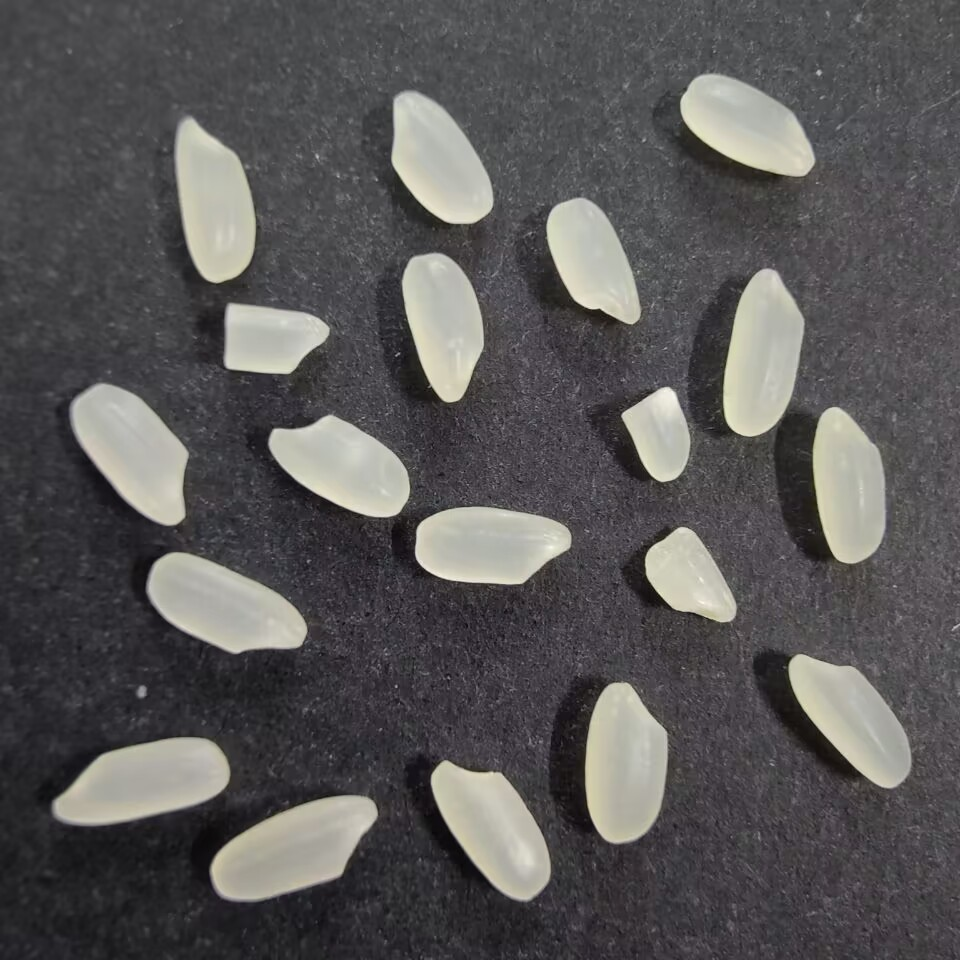broken: (642, 523, 742, 628), (218, 300, 331, 380), (617, 383, 694, 485)
rice: (210, 794, 382, 909), (65, 379, 195, 530), (784, 650, 914, 790), (430, 758, 552, 904), (142, 550, 309, 656), (50, 735, 231, 829), (259, 414, 413, 519), (676, 69, 817, 182), (583, 678, 673, 850), (170, 110, 257, 284), (721, 264, 807, 440), (385, 90, 494, 226), (543, 195, 645, 333), (398, 251, 490, 403), (410, 505, 576, 586), (811, 402, 890, 567)
